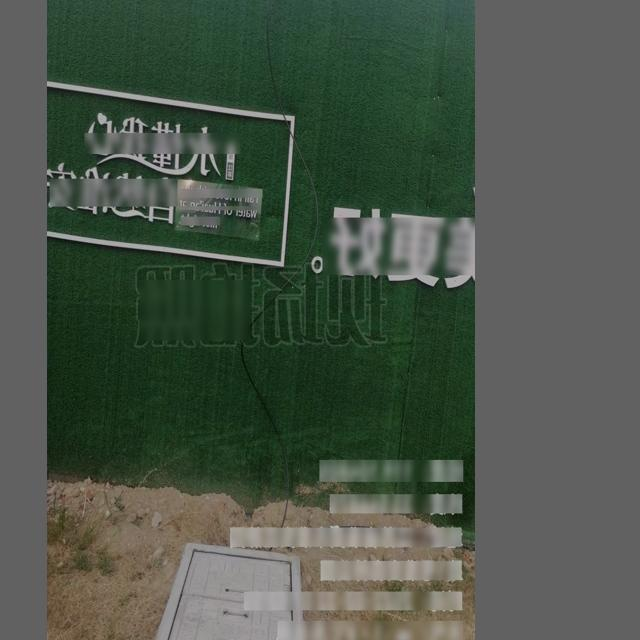good: (139, 539, 310, 640)
